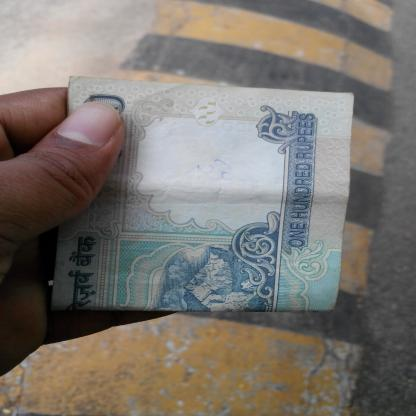Old100Back: (49, 74, 356, 312)
